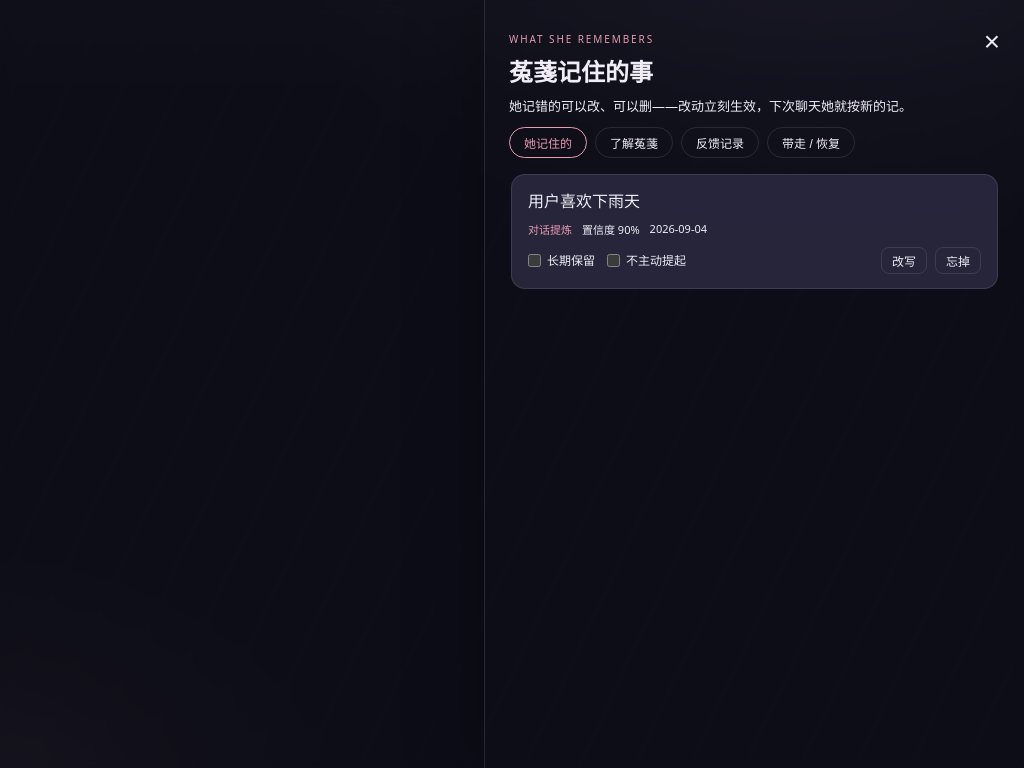
MemoryPanel › lets the user delete an observed expression-habit entry
Click the 3rd button: click(634, 142) [595,127,673,158]
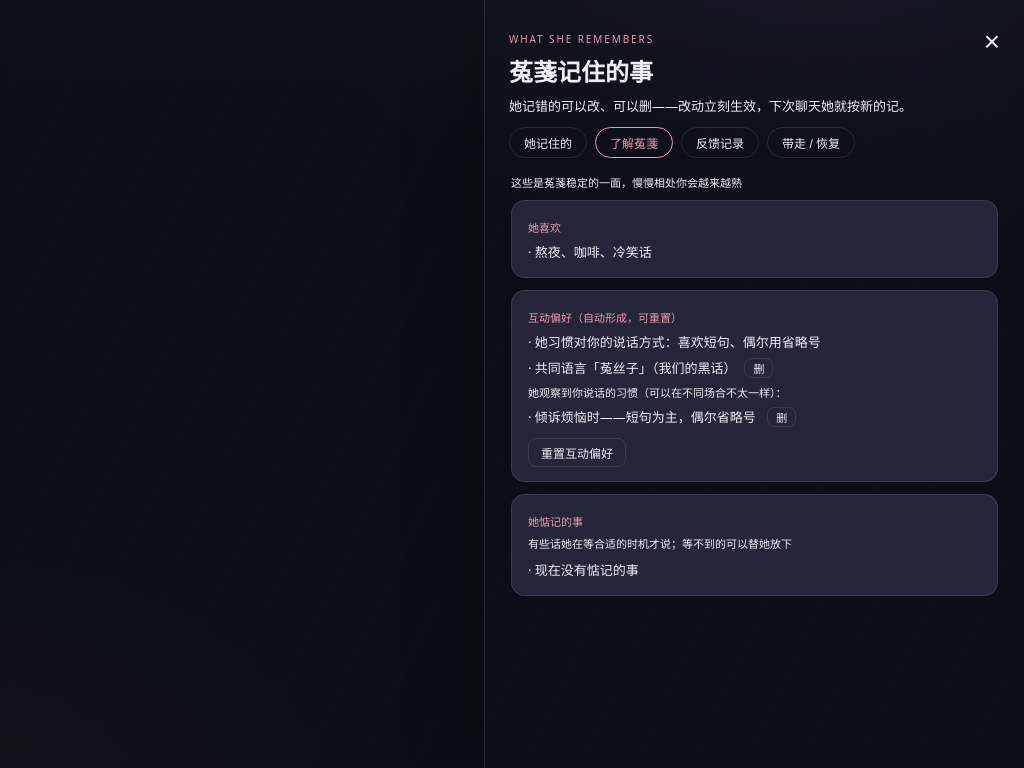
Expected: the element that starts with "互动偏好（自动形成，可重置）" is shown, [511,290,998,482]
Click the button with class "style-del": click(782, 417) [767,407,796,427]
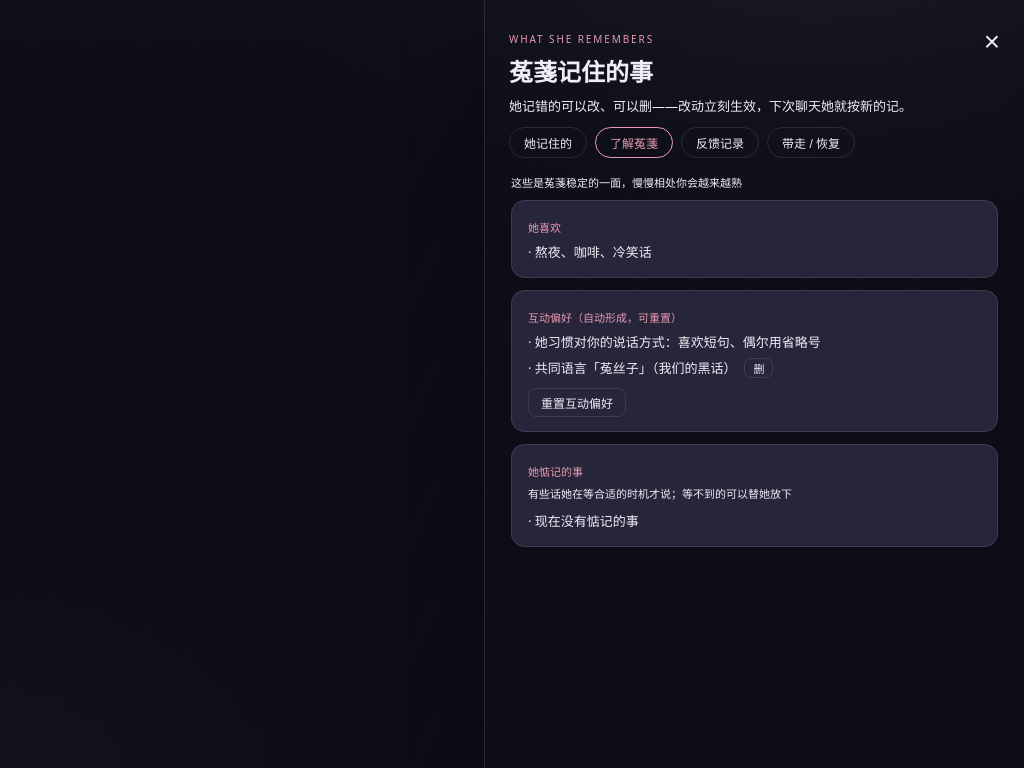
Expected: the text "倾诉烦恼时——短句为主，偶尔省略号" is gone
